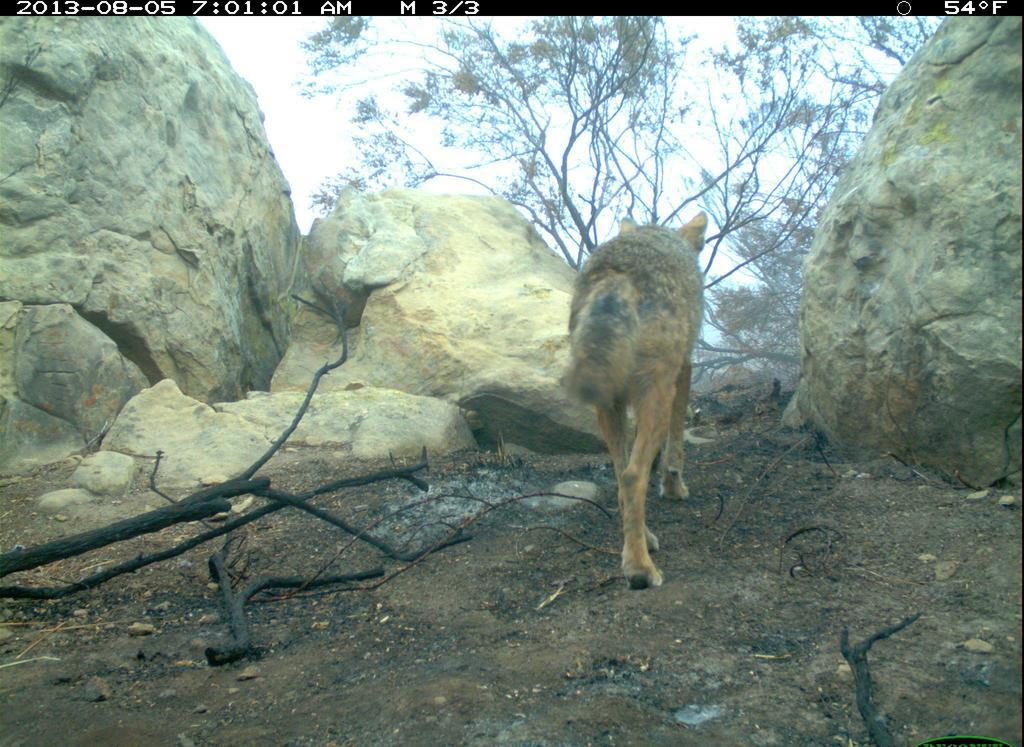coyote: (547, 193, 725, 600)
